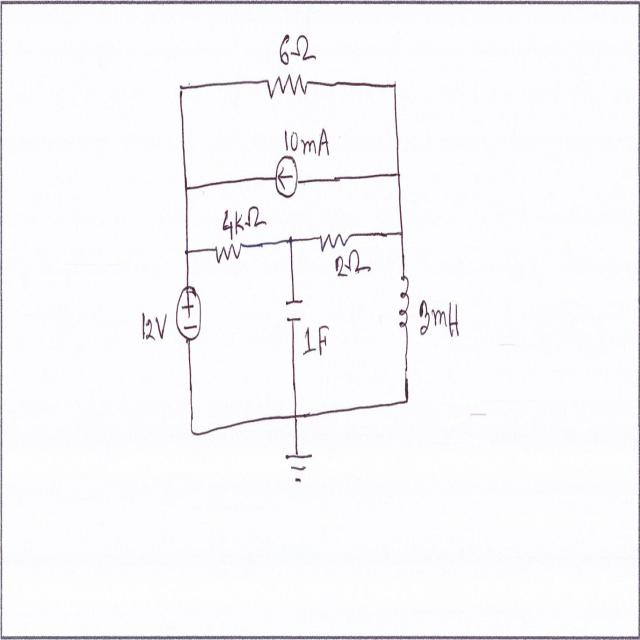capacitor: (282, 295, 306, 326)
current_source: (275, 152, 298, 198)
ground: (285, 446, 315, 495)
inductor: (397, 267, 413, 337)
resistor: (267, 70, 308, 109), (317, 221, 350, 255), (213, 240, 243, 269)
voltage_source: (175, 283, 204, 349)
